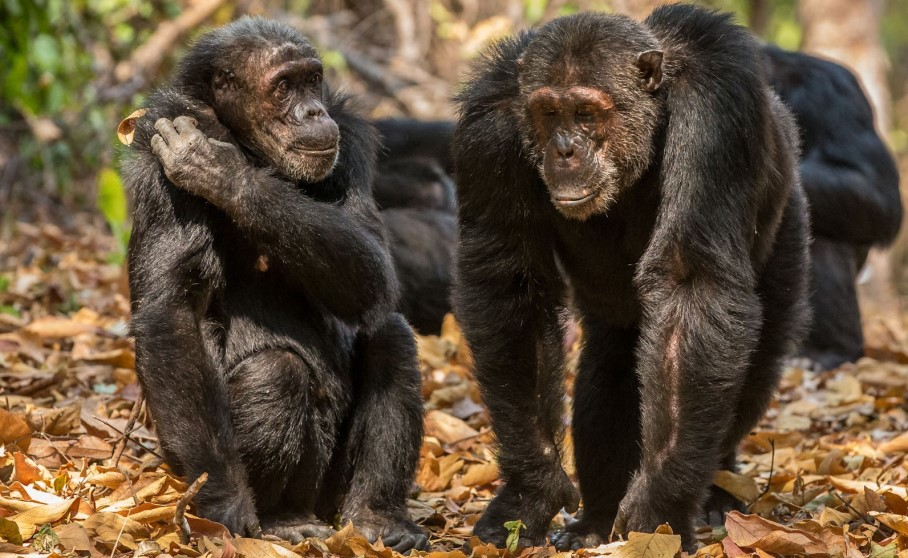Chimpanzee: (115, 25, 428, 545), (460, 24, 745, 526), (760, 52, 908, 364)
